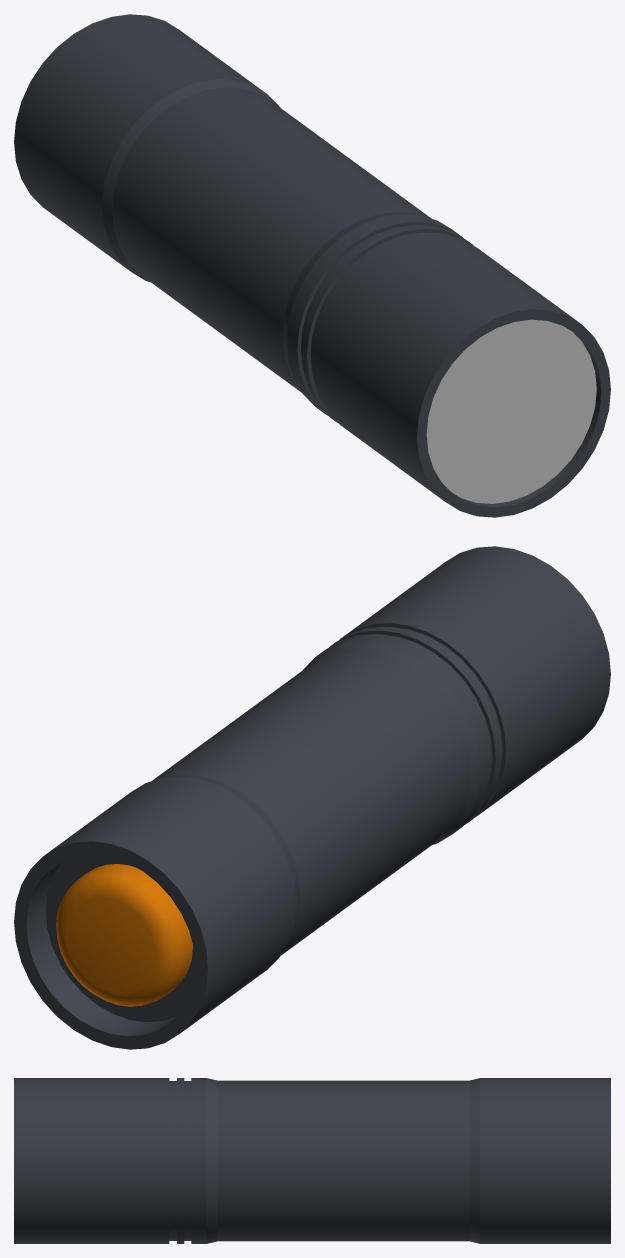
The model's file is UVlight.fbx.
3 renders of one model, top to bottom at view 1: azimuth 30°, elevation 25°; view 2: azimuth 150°, elevation 25°; view 3: azimuth 270°, elevation 25°, orthographic. The views are drawn at different scales.
Visible parts, largest first — view 1: StarterUV; view 2: StarterUV; view 3: StarterUV.
Part boxes in pixels (x1,y1,x2,y2): StarterUV: (14, 14, 610, 517); StarterUV: (14, 546, 610, 1049); StarterUV: (14, 1078, 610, 1243).
Bounding box in the file's own units: 4.15 × 4.15 × 14.93.
